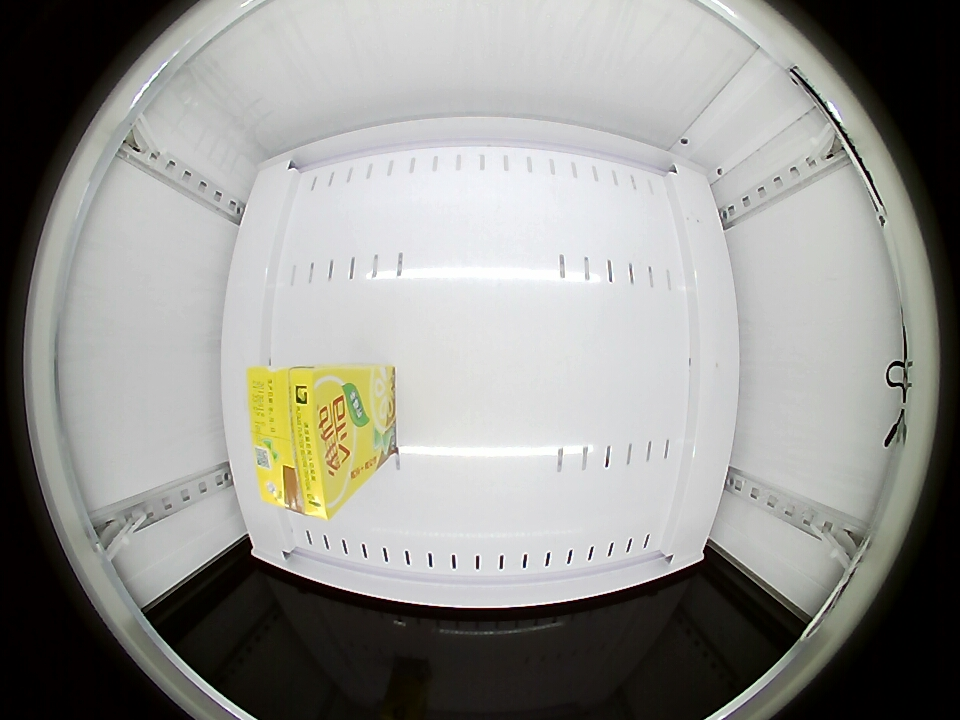weitaningmeng: (249, 368, 364, 520)
